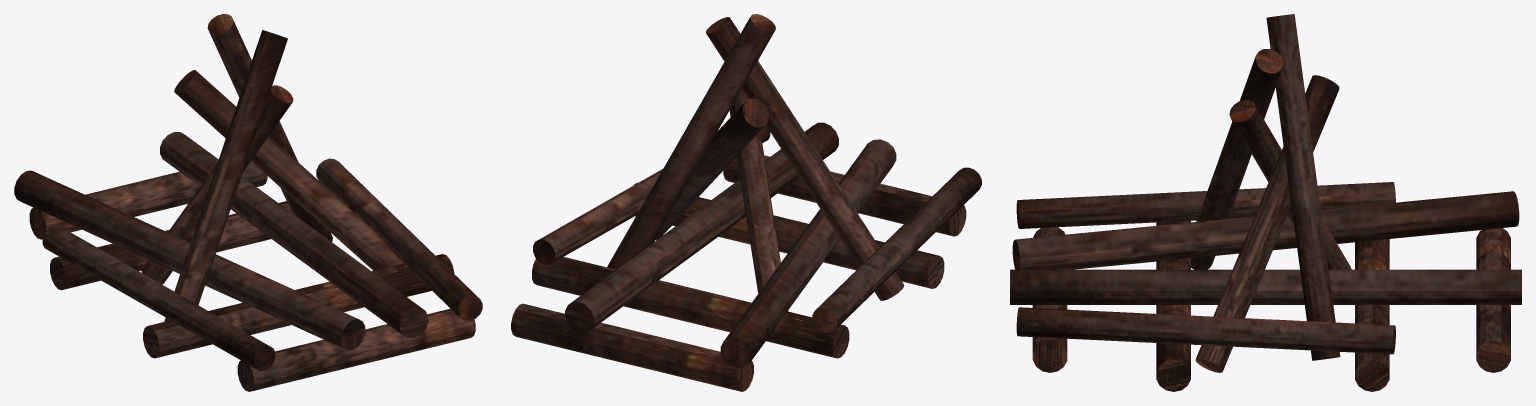
Rendered from Fogueira.fbx.
3 renders of one model, left to right at view 1: azimuth 30°, elevation 25°; view 2: azimuth 150°, elevation 25°; view 3: azimuth 270°, elevation 25°, orthographic. The views are drawn at different scales.
Visible parts, largest first — view 1: Fogueira; view 2: Fogueira; view 3: Fogueira.
Part boxes in pixels (x1,y1,x2,y2): Fogueira: (14,14,482,391); Fogueira: (511,14,981,391); Fogueira: (1010,14,1521,391).
Size of the model in its own units: 8005 by 7204 by 11065.
